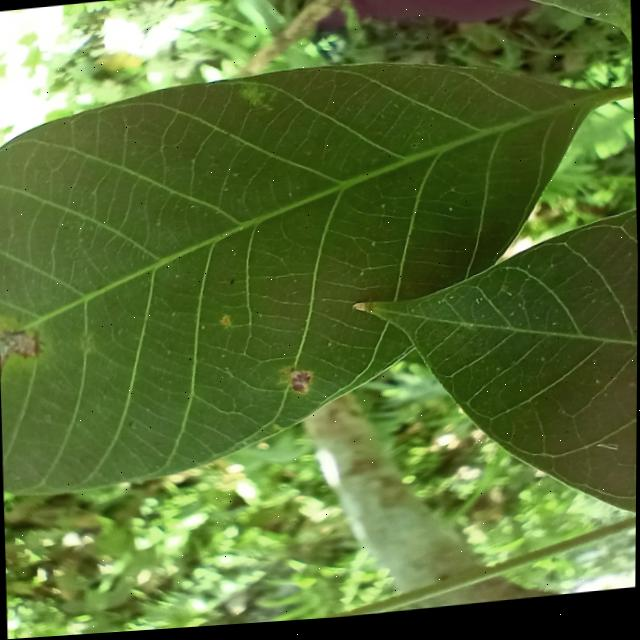Leaf-Blight: (0, 331, 37, 375), (352, 307, 366, 316)
